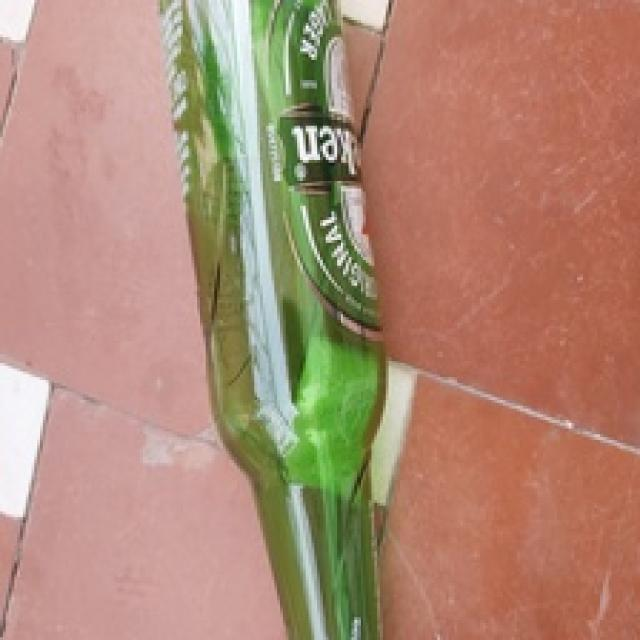Glass: (157, 0, 390, 640)
